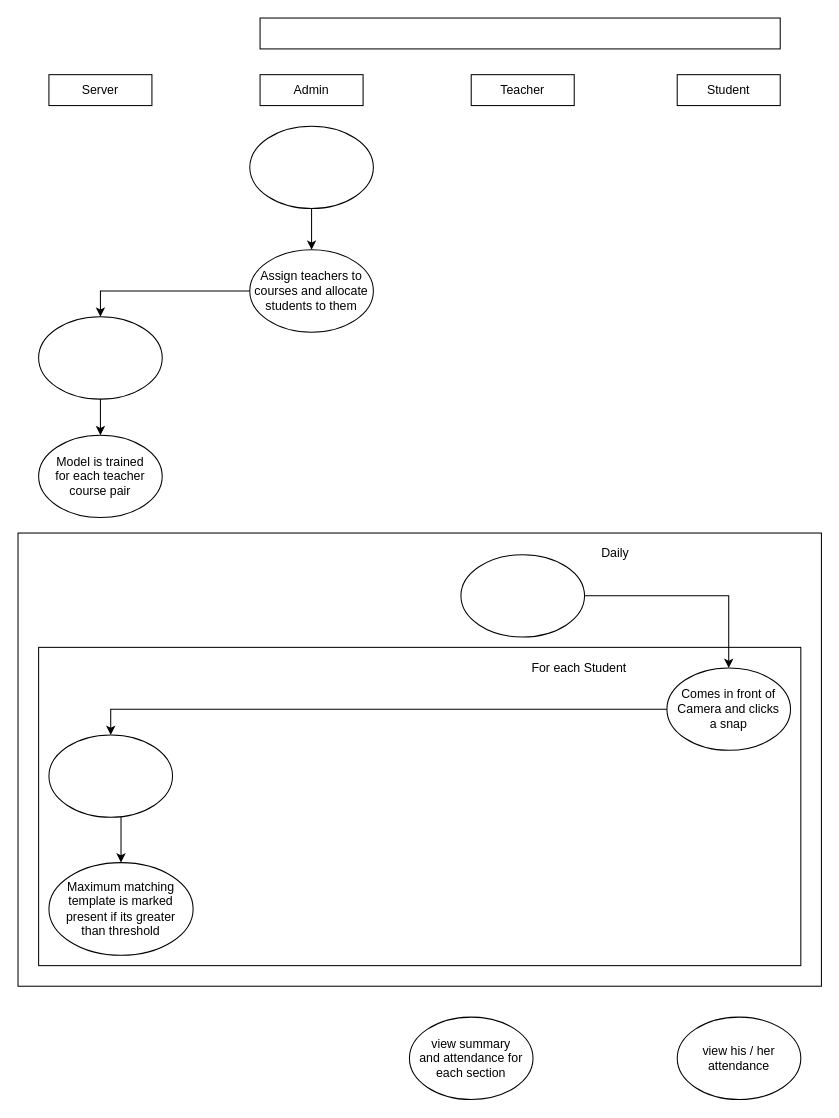
Some shapes in this 839 by 1118 pixel diagram are drawn without their labels. Here are the shapes that lost their labels. From the top down, the centre of each, then its label:
At point (519, 33): "Client".
At point (311, 167): "Add Courses, Teachers and Students".
At point (100, 357): "Face is extracted from each image and is aligned properly".
At point (522, 595): "Add Attendance Sheet".
At point (110, 775): "Snap is matched with template of each student".
